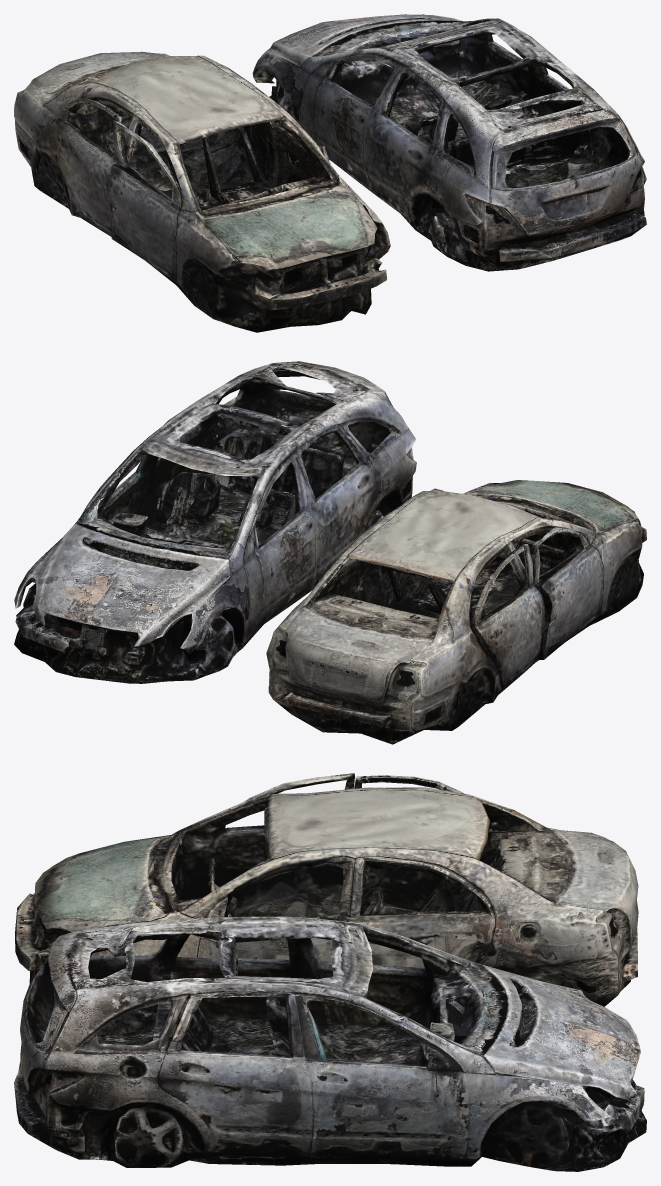
The model's file is wreck_cars.glb.
3 renders of one model, top to bottom at view 1: azimuth 30°, elevation 25°; view 2: azimuth 150°, elevation 25°; view 3: azimuth 270°, elevation 25°, orthographic. The views are drawn at different scales.
Parts seen in each view (by area): view 1: default002_Material #26_0, default001_Material #25_0; view 2: default001_Material #25_0, default002_Material #26_0; view 3: default001_Material #25_0, default002_Material #26_0.
Boxes of the visible parts, box(x1,y1,x2,y2) form: default002_Material #26_0: box(14, 51, 390, 332); default001_Material #25_0: box(252, 14, 646, 271); default001_Material #25_0: box(14, 361, 416, 683); default002_Material #26_0: box(266, 480, 646, 744); default001_Material #25_0: box(14, 916, 646, 1171); default002_Material #26_0: box(15, 773, 638, 1006).
Bounding box in the file's own units: 4.72 × 1.45 × 4.93.
Materials: 2 (2 with a texture image).
